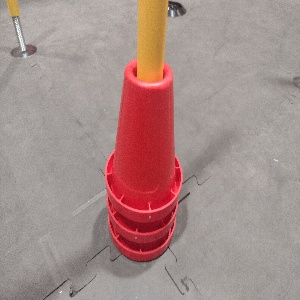Red_3: (104, 56, 183, 263)
